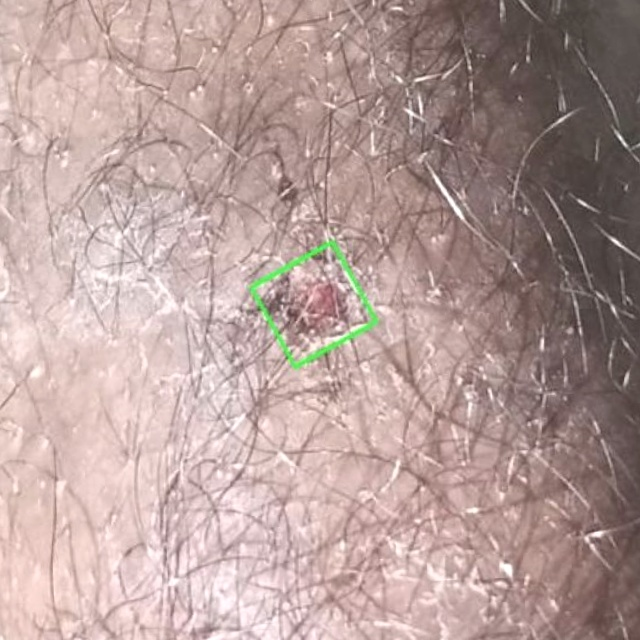Eczema: (252, 241, 376, 366)
